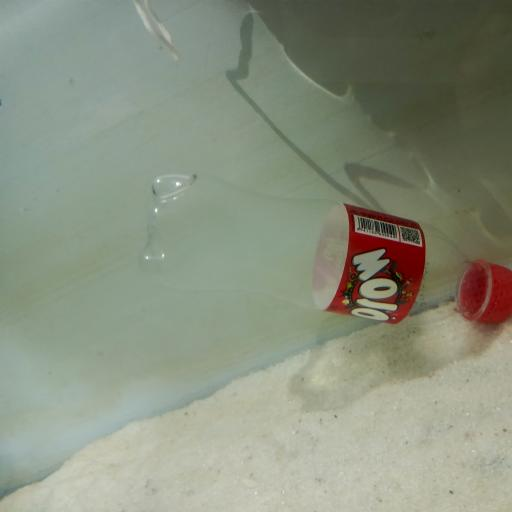bottle_cap: (458, 254, 512, 329)
plastic_bottle: (138, 152, 512, 328)
